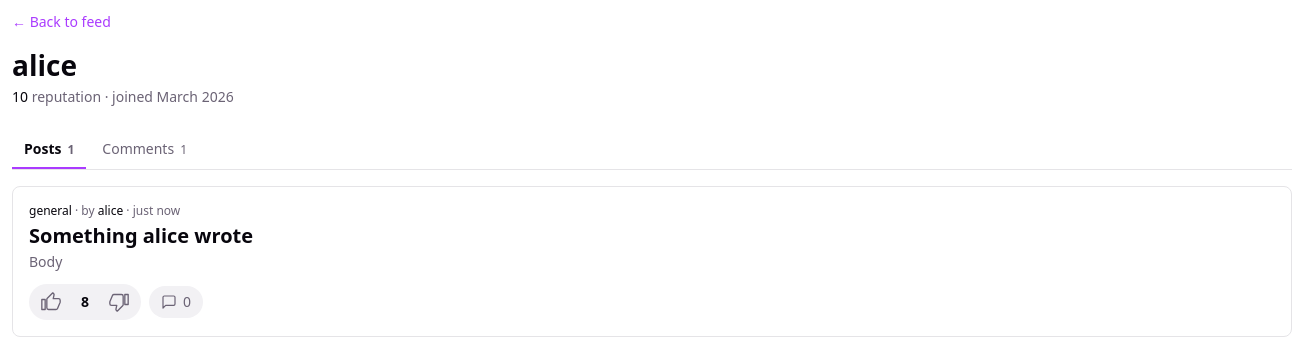
Test: ProfilePage › loads comments only once the comments tab is selected
Check: the link "Something alice wrote" is shown, box [29,222,253,249]
Click the button "Comments1": {"x": 145, "y": 150} [90,131,199,169]
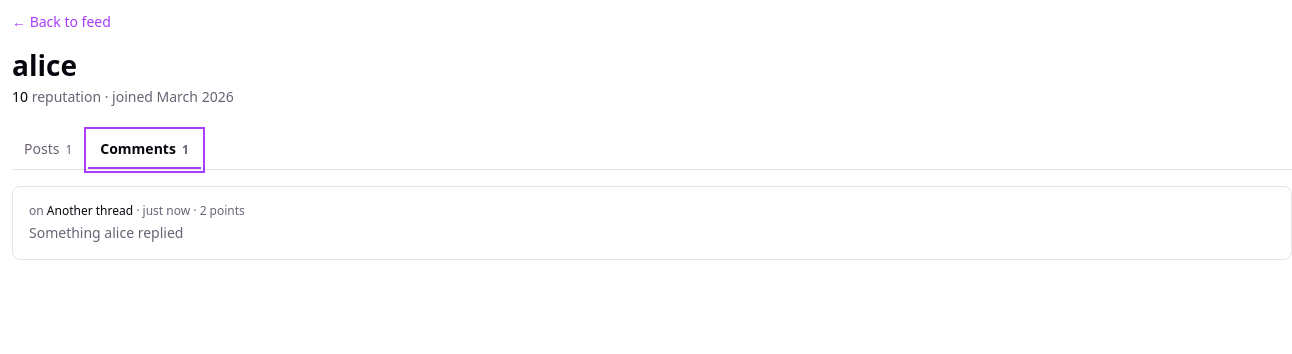
Check: the text "Something alice replied" is shown, box [29,223,183,242]
